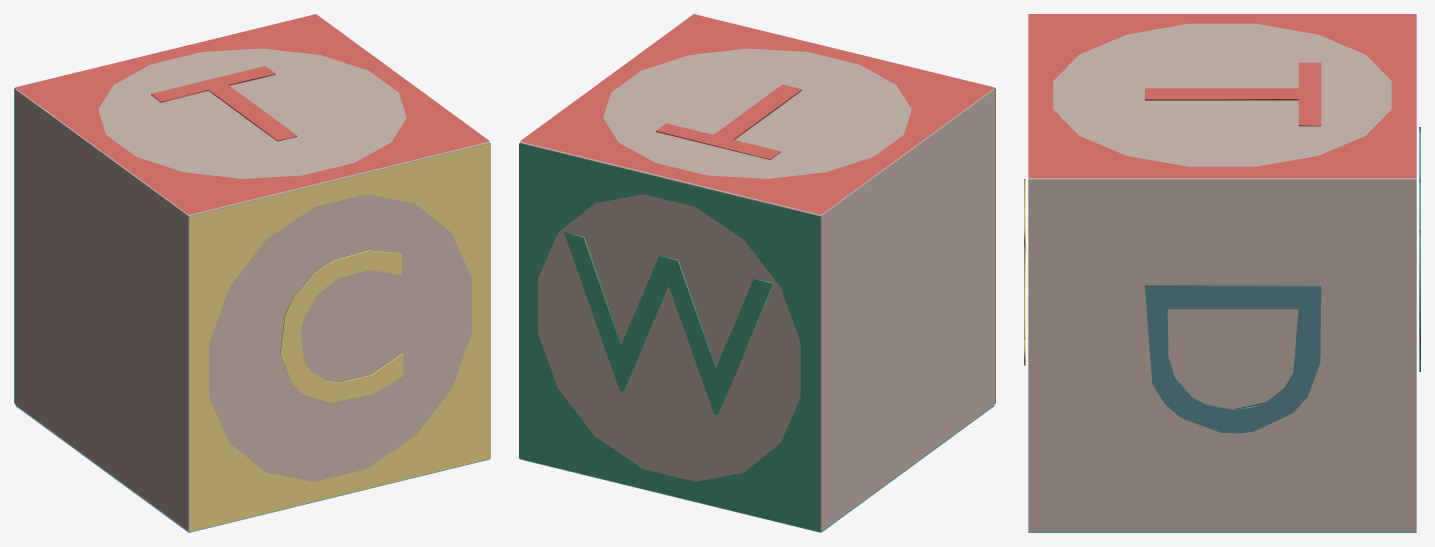
3 views of the same model, side by side, from view 1: azimuth 30°, elevation 25°; view 2: azimuth 150°, elevation 25°; view 3: azimuth 270°, elevation 25° (orthographic). The views are drawn at different scales.
Visible parts, largest first — view 1: cube; view 2: cube; view 3: cube.
Part boxes in pixels (x1,y1,x2,y2): cube: (14,14,490,532); cube: (519,14,995,532); cube: (1024,14,1420,532).
Size of the model in its own units: 0.0453 by 0.046 by 0.046.
